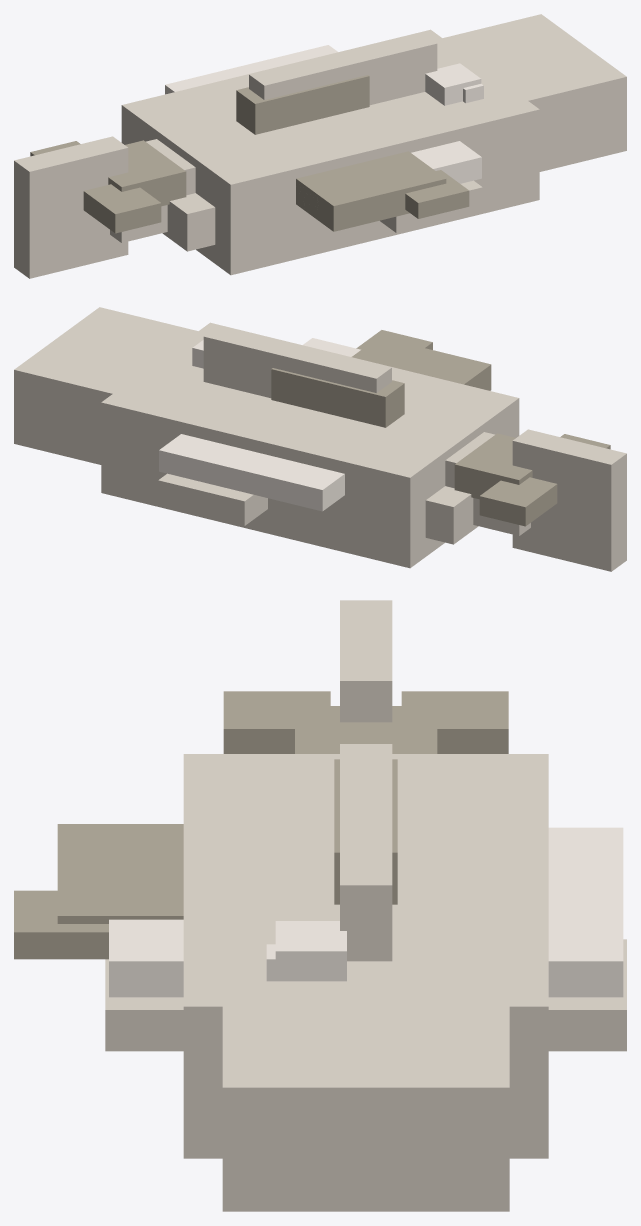
The model's file is fish_pearl_skate.glb.
3 views of the same model, one above another, from view 1: azimuth 30°, elevation 25°; view 2: azimuth 150°, elevation 25°; view 3: azimuth 270°, elevation 25° (orthographic). The views are drawn at different scales.
Parts seen in each view (by area): view 1: FishArt_body, FishArt_pectoral, FishArt_tail, FishArt_dorsal, FishArt_specialty, FishArt_eye; view 2: FishArt_body, FishArt_specialty, FishArt_tail, FishArt_dorsal, FishArt_pectoral; view 3: FishArt_body, FishArt_specialty, FishArt_pectoral, FishArt_tail, FishArt_eye, FishArt_dorsal.
Boxes of the visible parts, x1,y1,x2,y2 form: FishArt_body: [14, 14, 626, 278]; FishArt_pectoral: [296, 151, 469, 231]; FishArt_tail: [30, 140, 186, 233]; FishArt_dorsal: [236, 75, 369, 134]; FishArt_specialty: [165, 45, 481, 183]; FishArt_eye: [425, 63, 483, 105]; FishArt_body: [14, 307, 626, 571]; FishArt_specialty: [159, 338, 360, 511]; FishArt_tail: [454, 433, 610, 526]; FishArt_dorsal: [271, 368, 404, 427]; FishArt_pectoral: [352, 330, 491, 390]; FishArt_body: [105, 600, 626, 1211]; FishArt_specialty: [109, 827, 623, 997]; FishArt_pectoral: [14, 824, 183, 959]; FishArt_tail: [223, 691, 508, 753]; FishArt_eye: [266, 921, 346, 981]; FishArt_dorsal: [334, 759, 397, 904].
Size of the model in its own units: 0.33 by 0.0762 by 0.1859.
